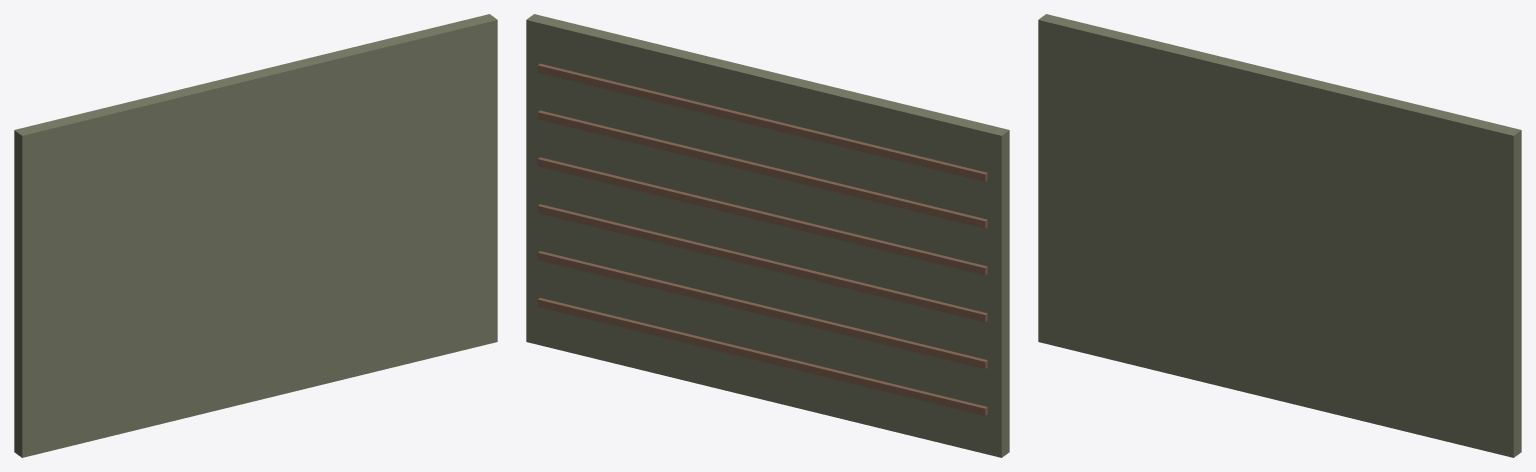
File: p_garage_door.glb
The picture shows the model from 3 angles, left to right: view 1: azimuth 30°, elevation 25°; view 2: azimuth 150°, elevation 25°; view 3: azimuth 330°, elevation 25°; orthographic projection.
Parts seen in each view (by area): view 1: body; view 2: body; view 3: body.
Part boxes in pixels (x1,y1,x2,y2): body: (14,14,497,457); body: (526,14,1009,457); body: (1038,14,1521,457).
Bounding box in the file's own units: 3.4 × 2.2 × 0.13.
